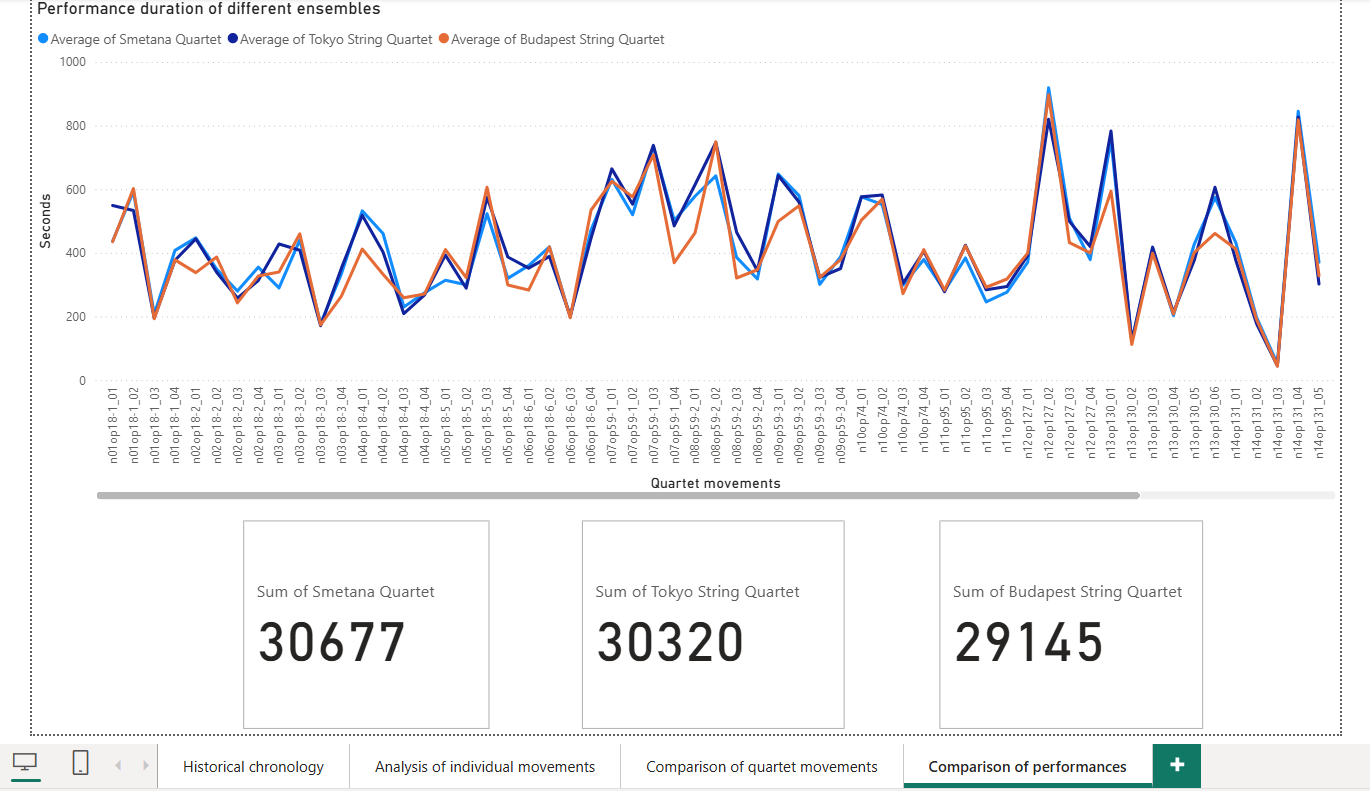

The page's visual inventory and layout, read from the dashboard file:
{"tool":"powerbi","page":{"name":"Comparison of performances","canvas":[1280,720],"ordinal":3},"visuals":[{"type":"lineChart","title":"Performance duration of different ensembles","fields":{"Category":["beethoven_string_quartets.ID"],"Y":["Avg(beethoven_string_quartets.Smetana seconds)","Avg(beethoven_string_quartets.Tokyo seconds)","Avg(beethoven_string_quartets.Budapest seconds)"]},"box":[0,0,1280.5,495.6],"z":0},{"type":"cardVisual","fields":{"Data":["Sum(beethoven_string_quartets.Budapest seconds)"]},"box":[882.9,505.8,268.9,214.2],"z":1000},{"type":"cardVisual","fields":{"Data":["Sum(beethoven_string_quartets.Tokyo seconds)"]},"box":[533.2,505.8,267.7,214.2],"z":2000},{"type":"cardVisual","fields":{"Data":["Sum(beethoven_string_quartets.Smetana seconds)"]},"box":[201.6,505.8,251.8,214.2],"z":3000}]}

Visuals, with their boxes on the page's 1280x720 design canvas (x1, y1, x2, y2). These are canvas units, not pixel positions in the 1370x791 screenshot, which may show the page scaled, cropped or inside an application window:
"Performance duration of different ensembles" lineChart: box=[0, 0, 1280, 496]
cardVisual - Sum(beethoven_string_quartets.Budapest seconds): box=[883, 506, 1152, 720]
cardVisual - Sum(beethoven_string_quartets.Tokyo seconds): box=[533, 506, 801, 720]
cardVisual - Sum(beethoven_string_quartets.Smetana seconds): box=[202, 506, 453, 720]
